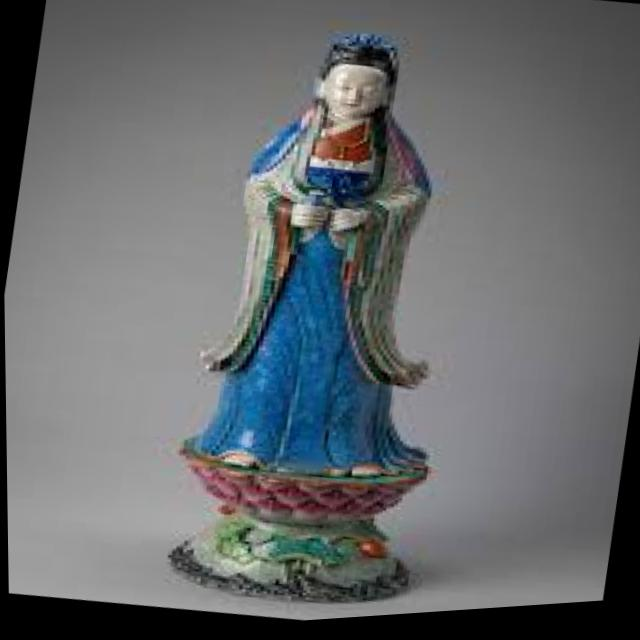Guan Yin: (201, 11, 486, 412)
